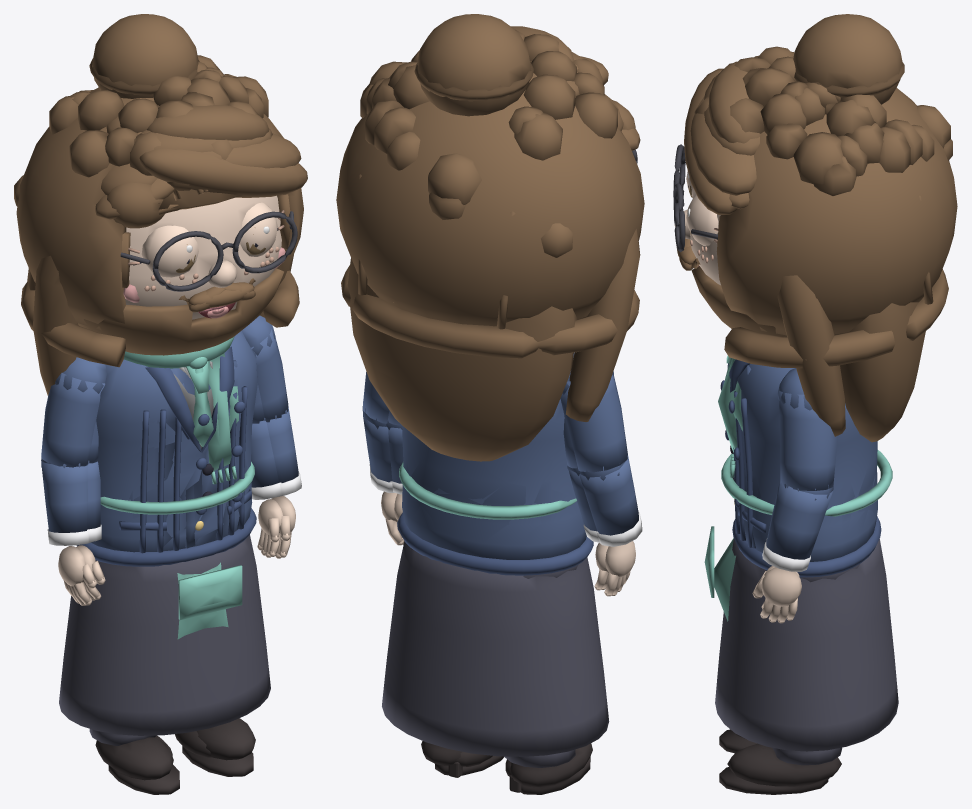
File: summit-customer.glb
3 views of the same model, side by side, from view 1: azimuth 30°, elevation 25°; view 2: azimuth 150°, elevation 25°; view 3: azimuth 270°, elevation 25° (orthographic). The views are drawn at different scales.
Parts seen in each view (by area): view 1: wagner_Body, petrov_Hair, demir_Body, ferri_Body, albers_Hair, ferri_Hair, demir_Hair, m_Head, wagner_Hair, m_ForeR, olsen_Body, m_ArmR (+10 smaller); view 2: petrov_Hair, wagner_Body, wagner_Hair, ferri_Hair, demir_Body, ferri_Body, albers_Hair, m_ForeR, m_ArmR, m_ForeL, f_ForeR, f_ForeL (+2 smaller); view 3: petrov_Hair, wagner_Body, ferri_Hair, demir_Body, wagner_Hair, albers_Hair, ferri_Body, m_ForeL, m_ArmL, demir_Hair, olsen_Hair, f_LidL (+2 smaller).
Part boxes in pixels (x1,y1,x2,y2): wagner_Body: (59, 336, 270, 735); petrov_Hair: (16, 87, 307, 367); demir_Body: (55, 317, 275, 794); ferri_Body: (55, 315, 275, 779); albers_Hair: (89, 14, 301, 291); ferri_Hair: (14, 55, 268, 312); demir_Hair: (78, 128, 283, 355); m_Head: (124, 195, 283, 319); wagner_Hair: (27, 178, 293, 395); m_ForeR: (41, 459, 96, 605); olsen_Body: (60, 346, 262, 756); m_ArmR: (41, 373, 105, 467); petrov_Hair: (336, 56, 644, 358); wagner_Body: (382, 541, 609, 756); wagner_Hair: (347, 128, 640, 461); ferri_Hair: (360, 29, 617, 257); demir_Body: (397, 371, 613, 794); ferri_Body: (399, 352, 592, 787); albers_Hair: (414, 14, 637, 163); m_ForeR: (579, 455, 642, 596); m_ArmR: (560, 375, 627, 472); m_ForeL: (362, 401, 404, 545); f_ForeR: (567, 465, 609, 590); f_ForeL: (386, 420, 403, 521); petrov_Hair: (684, 68, 957, 368); wagner_Body: (715, 358, 898, 751); ferri_Hair: (679, 46, 952, 270); demir_Body: (719, 364, 881, 794); wagner_Hair: (714, 193, 933, 442); albers_Hair: (673, 14, 904, 251); ferri_Body: (704, 355, 892, 786); m_ForeL: (752, 480, 833, 623); m_ArmL: (779, 390, 837, 490); demir_Hair: (676, 73, 786, 336); olsen_Hair: (690, 61, 760, 263); f_LidL: (686, 194, 718, 245).
Size of the model in its own units: 0.4149 by 1.11 by 0.3835.
